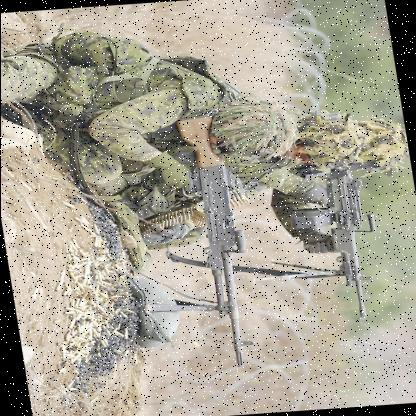rifle: (164, 120, 275, 372), (303, 170, 381, 324)
